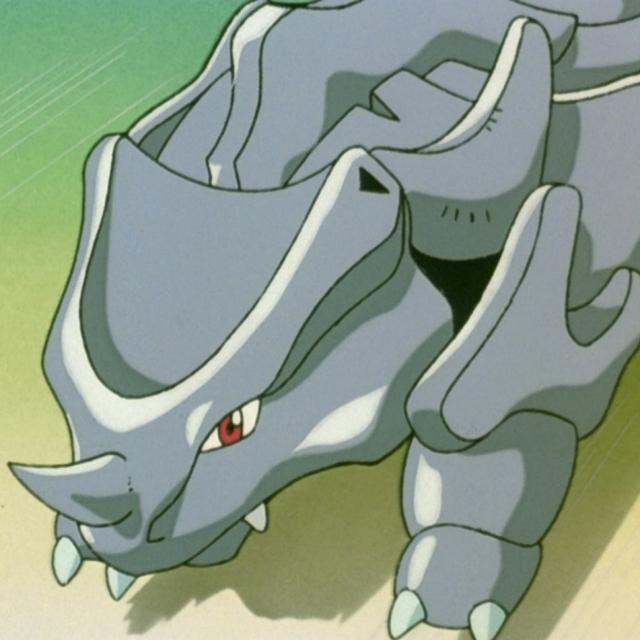Rhyhorn: (23, 0, 640, 606)
